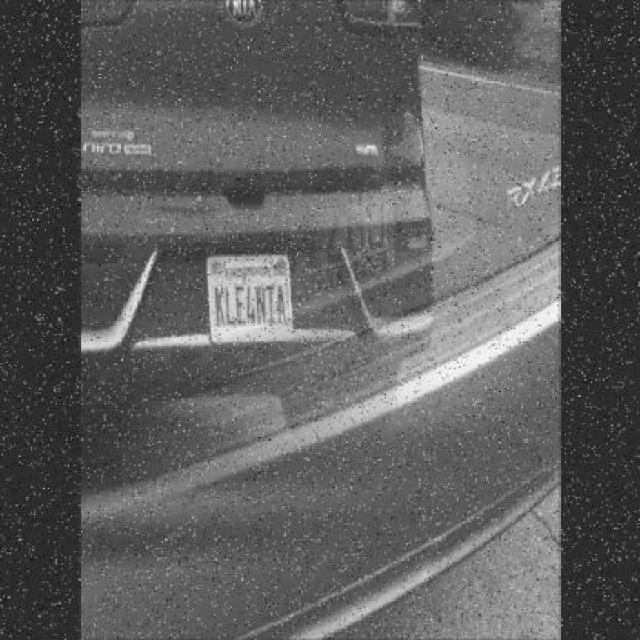licenseplate: (208, 246, 292, 343)
